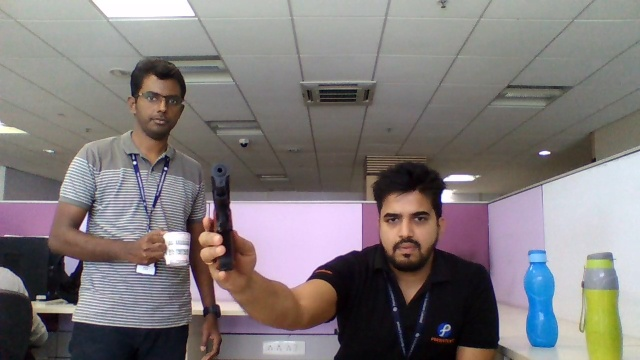gun: (206, 162, 235, 225)
